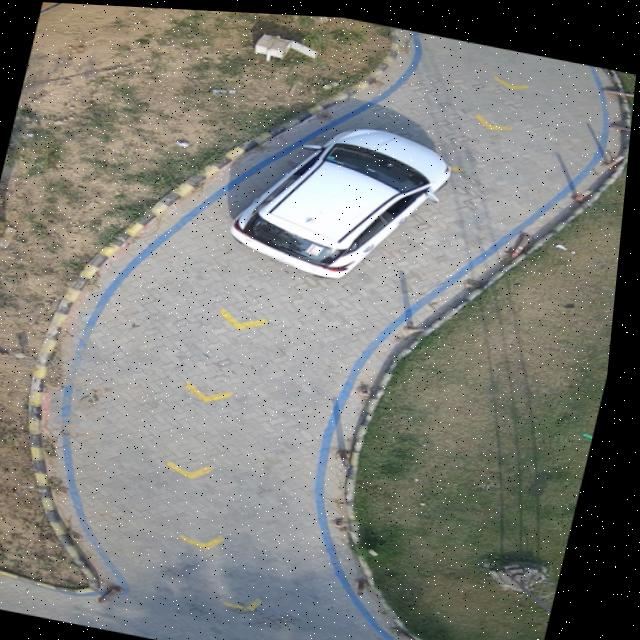car: (235, 124, 454, 275)
